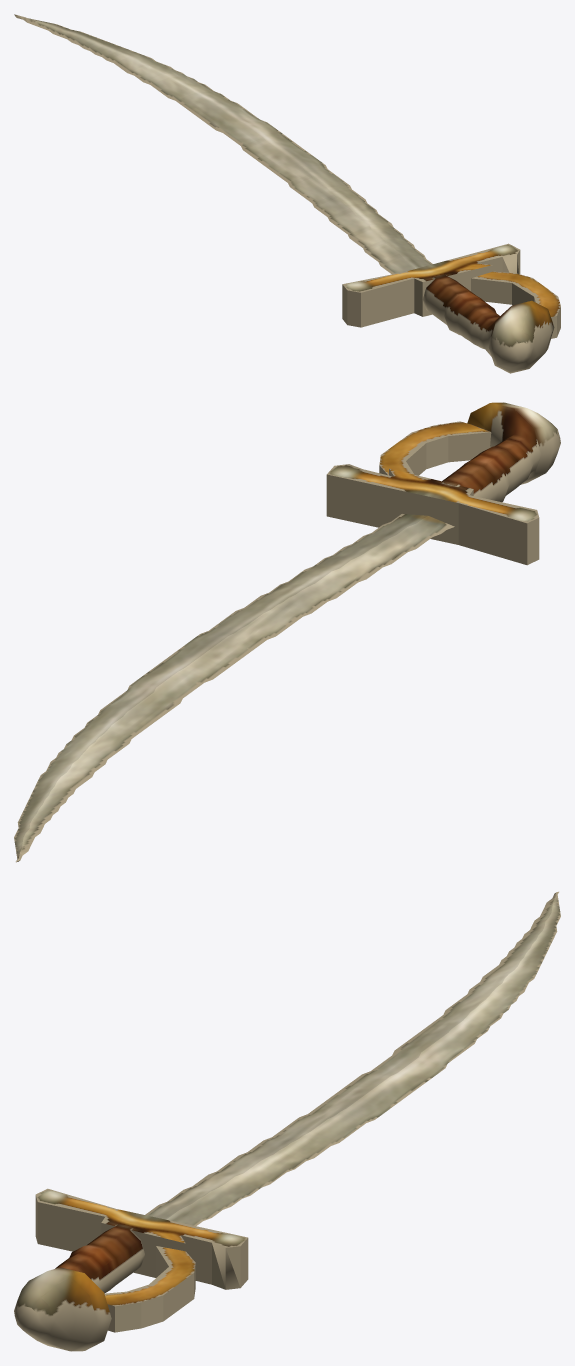
File: item_mm9_10017.glb
3 views of the same model, one above another, from view 1: azimuth 30°, elevation 25°; view 2: azimuth 150°, elevation 25°; view 3: azimuth 330°, elevation 25° (orthographic). The views are drawn at different scales.
Parts seen in each view (by area): view 1: d10017; view 2: d10017; view 3: d10017.
Part boxes in pixels (x1,y1,x2,y2): d10017: (14,14,560,373); d10017: (14,402,560,862); d10017: (14,891,560,1351).
Size of the model in its own units: 29.61 by 10.67 by 142.
1 material, 1 textured.
